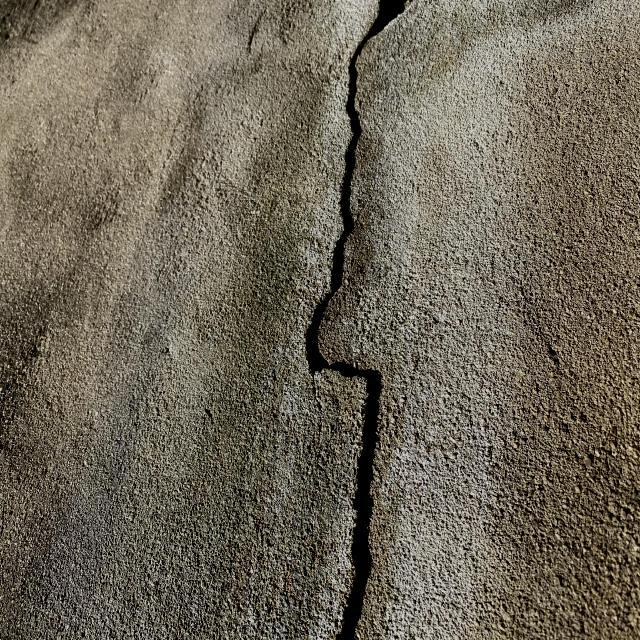SurfaceCrack: (260, 0, 444, 640)
